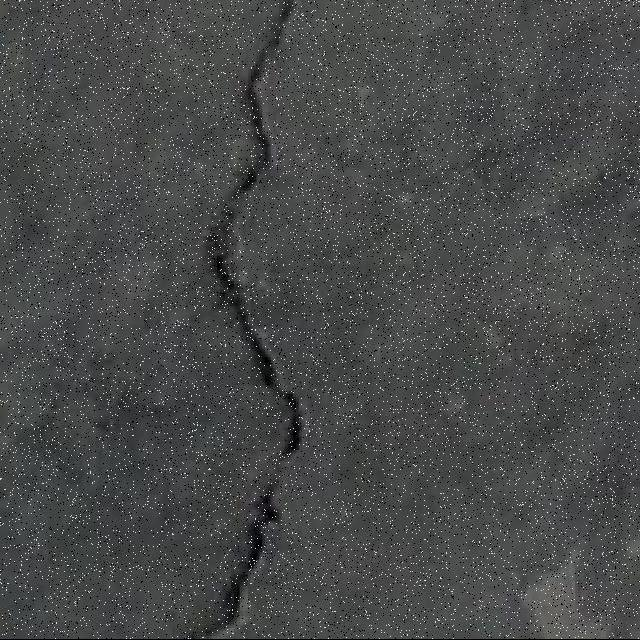crack: (201, 1, 304, 634), (238, 16, 285, 178)
